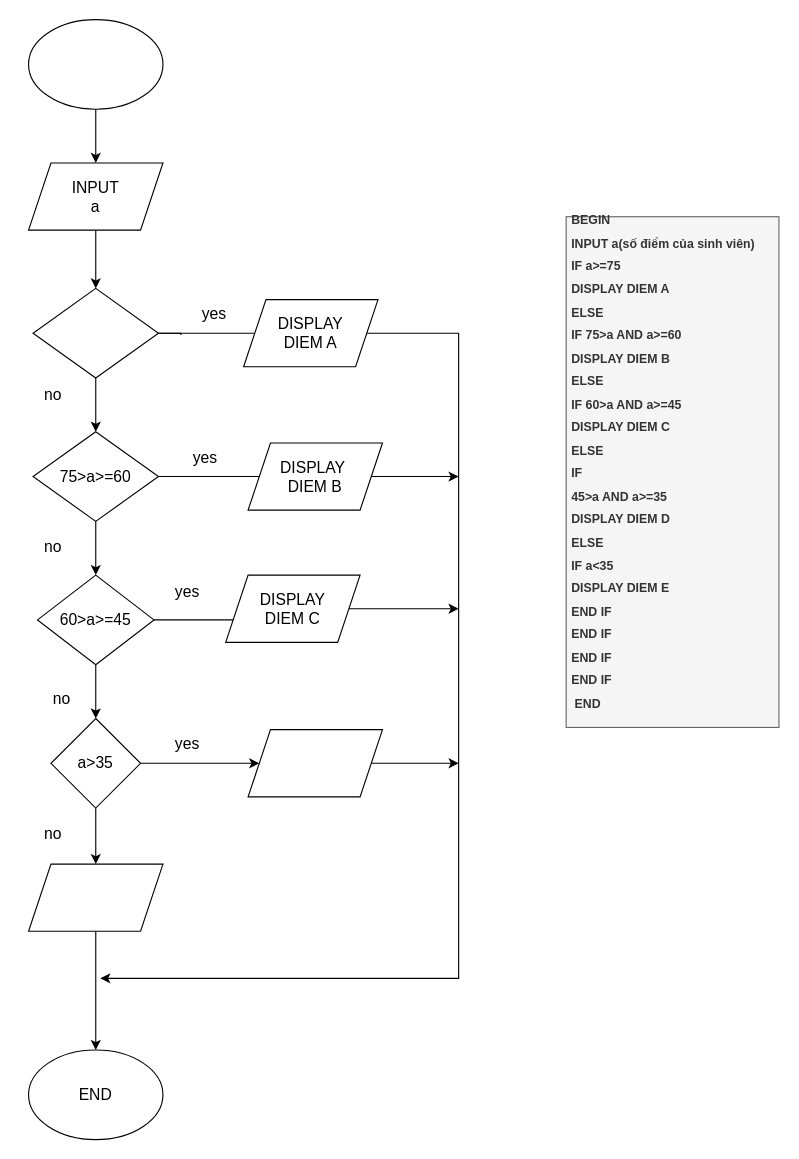
Image size: 799x1159. Some labels were removed from this diagram. Each missing label, with the centre of its shape:
a>=75: the point at 95,332
BEGIN: the point at 95,63
DISPLAY DIEM D: the point at 314,763
DISPLAY DIEM E: the point at 95,897
